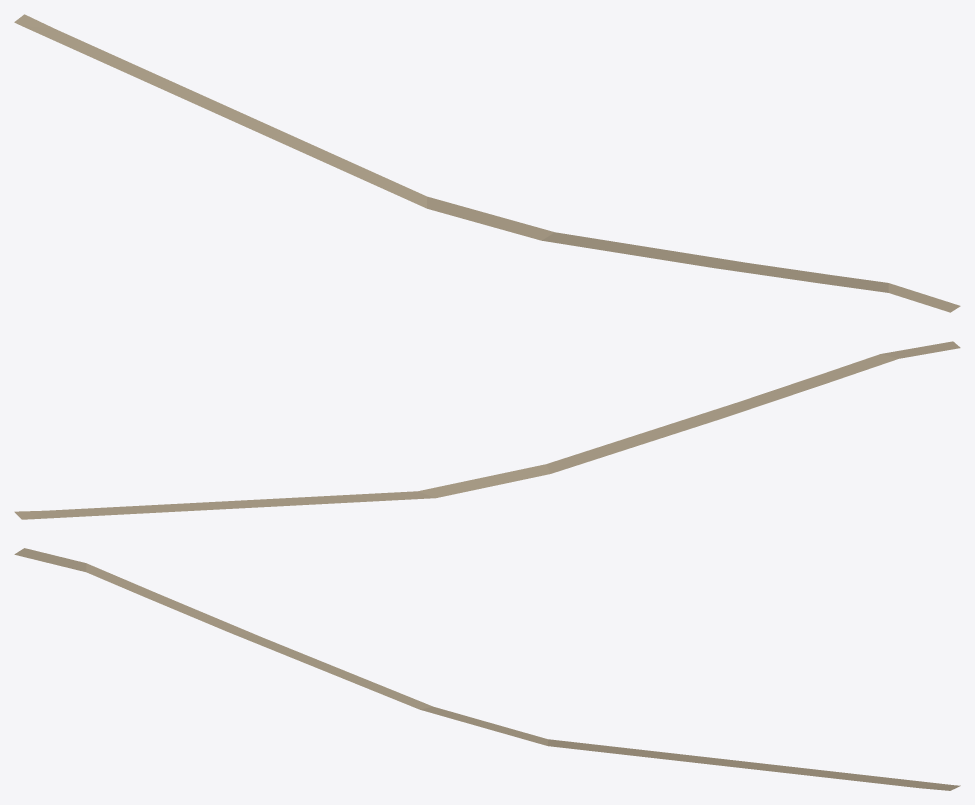
File: farm_-50_-39_track.glb
3 renders of one model, top to bottom at view 1: azimuth 90°, elevation 25°; view 2: azimuth 150°, elevation 25°; view 3: azimuth 270°, elevation 25°, orthographic. The views are drawn at different scales.
Parts seen in each view (by area): view 1: geometry_0; view 2: geometry_0; view 3: geometry_0.
Boxes of the visible parts, box(x1,y1,x2,y2) form: geometry_0: box(14, 14, 960, 312); geometry_0: box(14, 341, 960, 519); geometry_0: box(14, 548, 960, 790).
Size of the model in its own units: 111 by 13.65 by 164.
